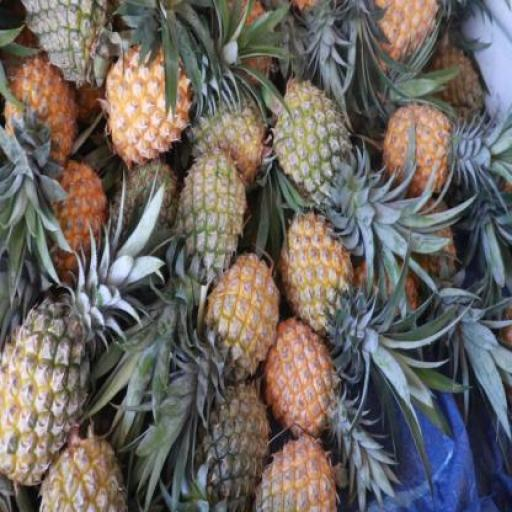------------------------------: (0, 304, 98, 480), (274, 76, 352, 204), (206, 252, 280, 384), (176, 152, 246, 286), (265, 318, 337, 445), (188, 96, 265, 183), (252, 434, 338, 511)
Pineapple - v8 v1: (104, 44, 190, 169), (280, 210, 354, 328), (5, 56, 73, 168), (384, 106, 452, 204)
